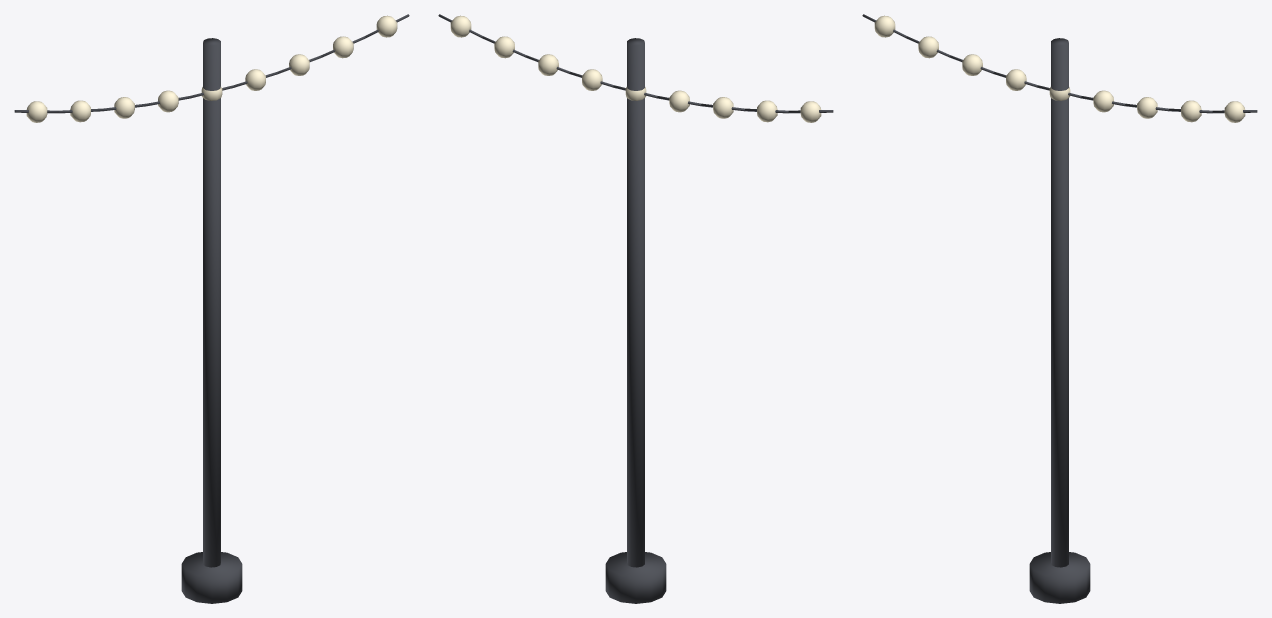
Rendered from StringLightPole.fbx.
3 views of the same model, side by side, from view 1: azimuth 30°, elevation 25°; view 2: azimuth 150°, elevation 25°; view 3: azimuth 330°, elevation 25° (orthographic).
Visible parts, largest first — view 1: Dark.009, Glow.006; view 2: Dark.009, Glow.006; view 3: Dark.009, Glow.006.
Boxes of the visible parts, x1,y1,x2,y2 form: Dark.009: [14, 14, 409, 603]; Glow.006: [26, 15, 397, 122]; Dark.009: [438, 14, 833, 603]; Glow.006: [450, 15, 821, 122]; Dark.009: [862, 14, 1257, 603]; Glow.006: [874, 15, 1245, 122].
Size of the model in its own units: 9.01 by 12 by 1.2.
